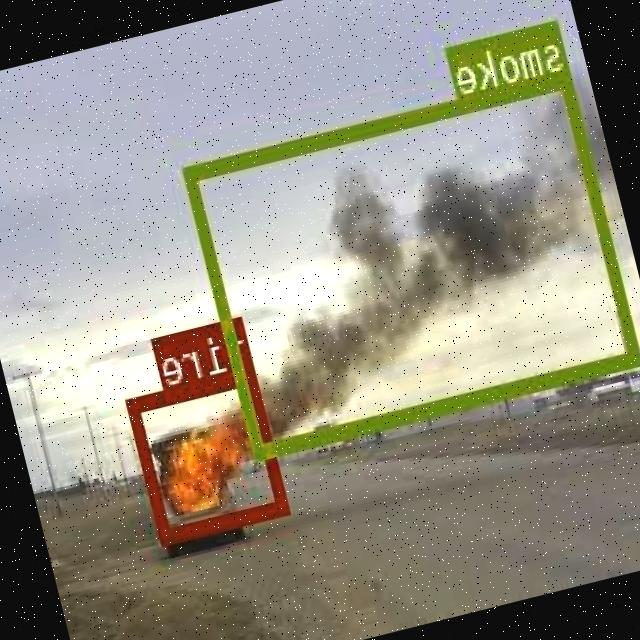fire: (128, 365, 291, 540)
smoke: (184, 67, 640, 454)
